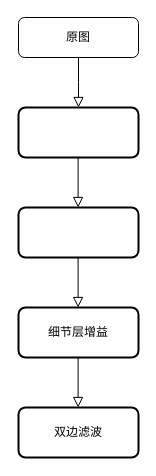
Some shapes in this 156 by 476 pixel diagram are drawn without their labels. Each missing label, with the box of its shape:
CLAHE对比度增强: (17, 206, 139, 258)
双边滤波降噪: (17, 106, 139, 158)
